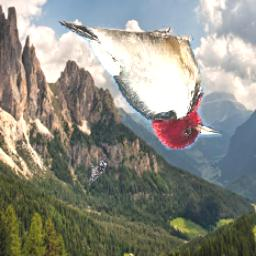Woodpecker: (57, 21, 222, 150), (87, 160, 107, 185)
